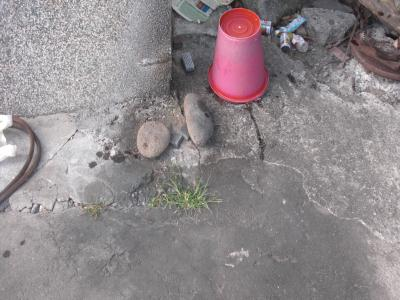bottle: (279, 30, 292, 52)
bucket: (204, 6, 272, 108)
